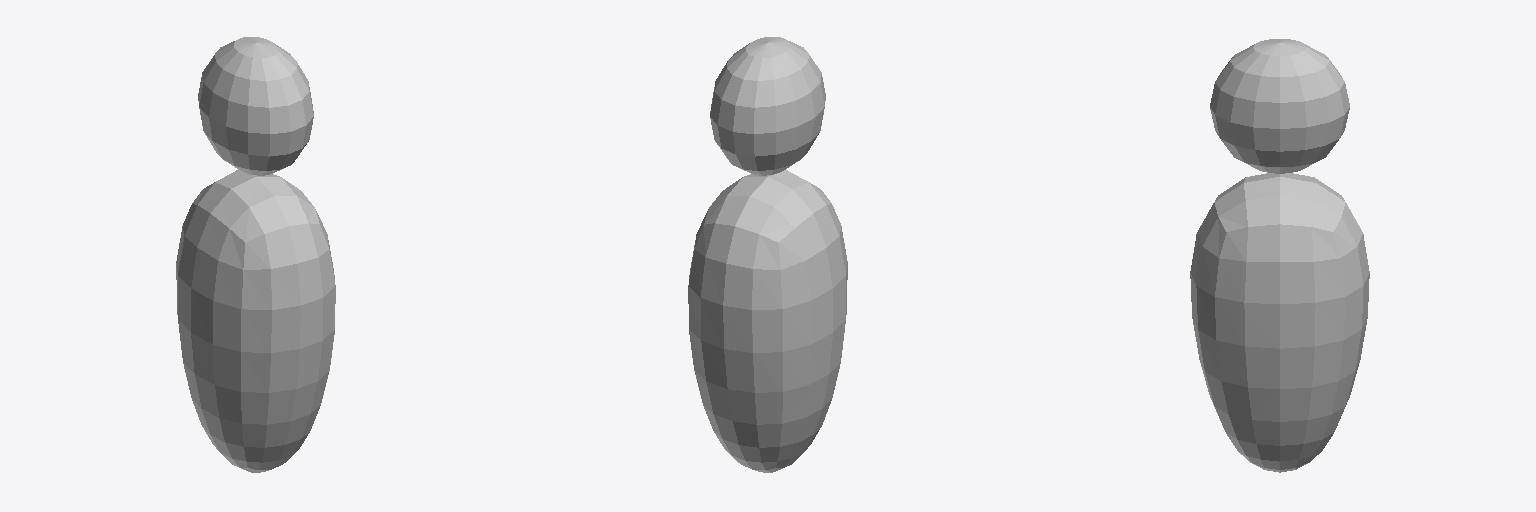
The model's file is player.obj.
The picture shows the model from 3 angles: view 1: azimuth 30°, elevation 25°; view 2: azimuth 150°, elevation 25°; view 3: azimuth 270°, elevation 25°; orthographic projection.
Visible parts, largest first — view 1: Sphere; view 2: Sphere; view 3: Sphere.
Part boxes in pixels (x1,y1,x2,y2): Sphere: (176,37,335,472); Sphere: (688,37,847,472); Sphere: (1190,39,1369,472).
Size of the model in its own units: 1.23 by 3.86 by 1.47.